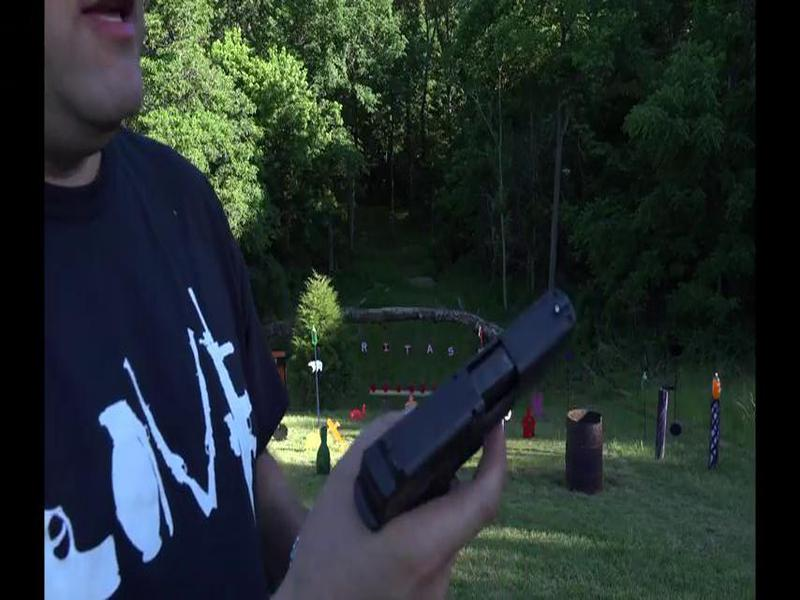Pistola: (317, 281, 605, 515)
